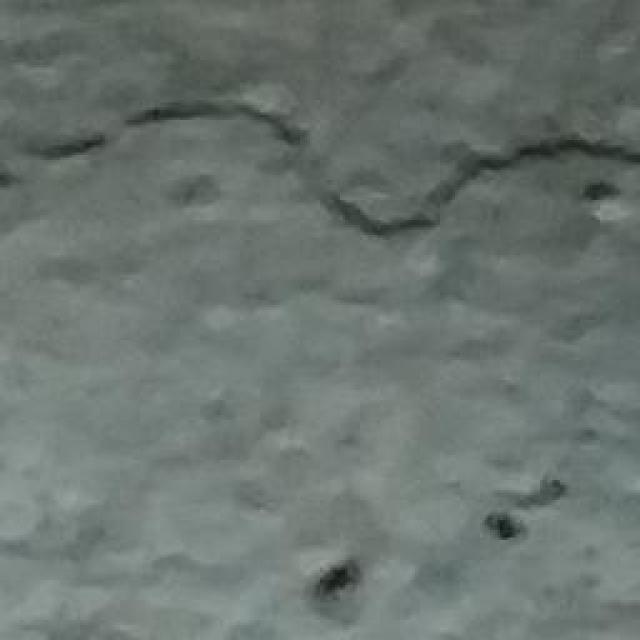Transverse: (0, 81, 640, 246)
